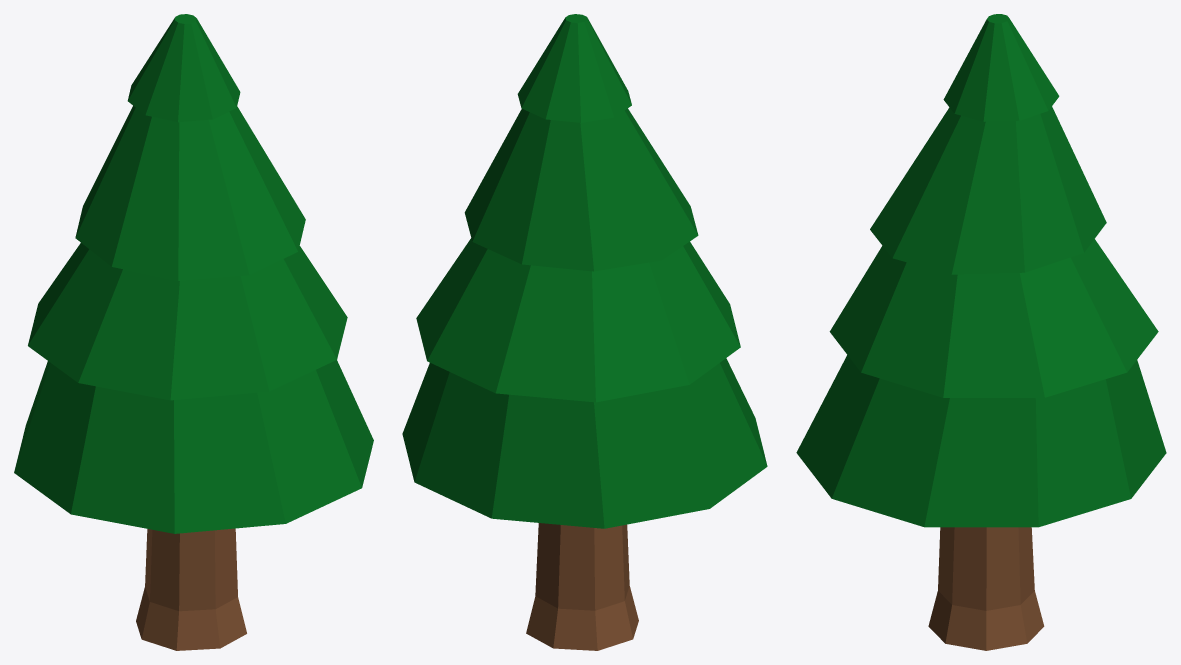
The model's file is TreeVar2.fbx.
3 views of the same model, side by side, from view 1: azimuth 30°, elevation 25°; view 2: azimuth 150°, elevation 25°; view 3: azimuth 270°, elevation 25° (orthographic).
Visible parts, largest first — view 1: SmallTreeLeaves, SmallTreeTrunk; view 2: SmallTreeLeaves, SmallTreeTrunk; view 3: SmallTreeLeaves, SmallTreeTrunk.
Boxes of the visible parts, x1=… form: SmallTreeLeaves: x1=14, y1=14, x2=373, y2=533; SmallTreeTrunk: x1=136, y1=528, x2=246, y2=650; SmallTreeLeaves: x1=402, y1=14, x2=767, y2=528; SmallTreeTrunk: x1=526, y1=523, x2=638, y2=650; SmallTreeLeaves: x1=796, y1=14, x2=1166, y2=527; SmallTreeTrunk: x1=928, y1=527, x2=1044, y2=650.
Size of the model in its own units: 3.14 by 5.98 by 3.3.
